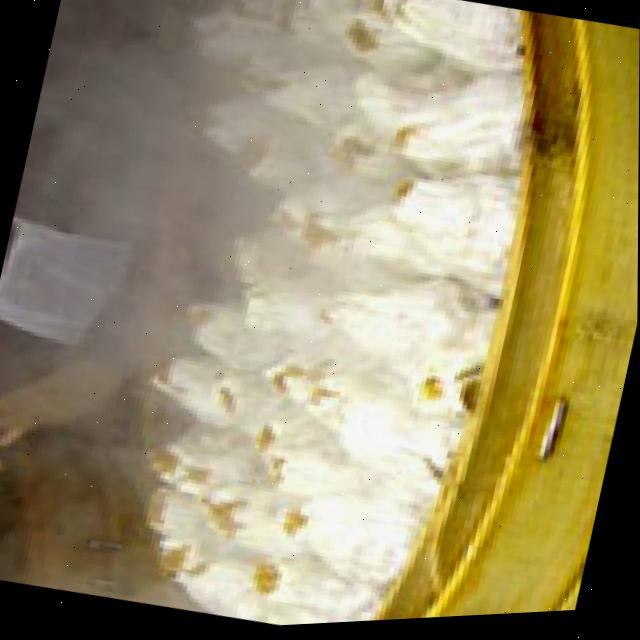带馅早点: (128, 0, 507, 635)
